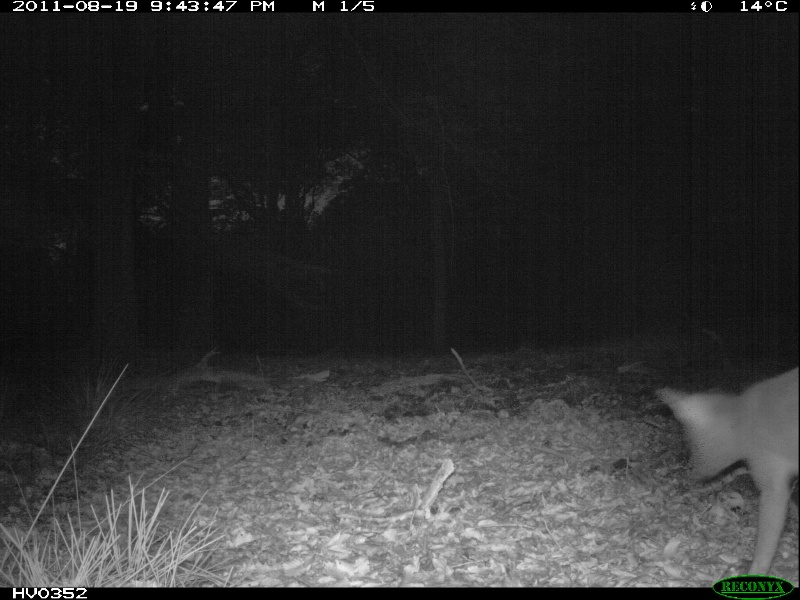fox: (657, 364, 800, 578)
